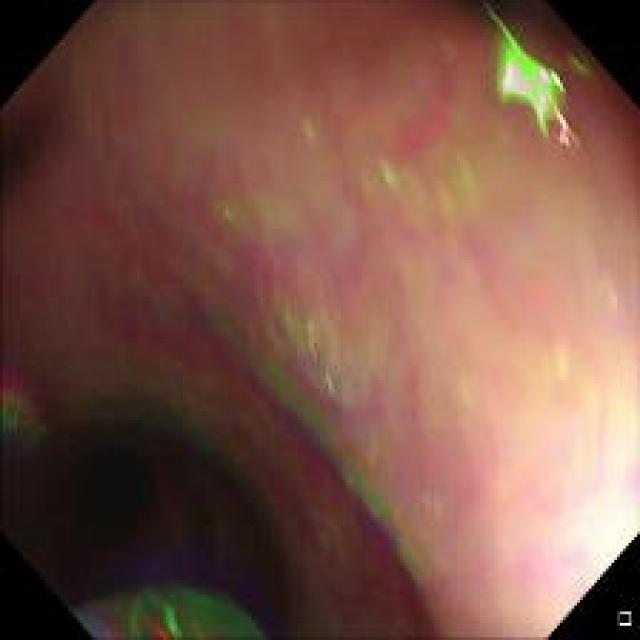color misalignment: (21, 111, 602, 626), (71, 572, 276, 634), (488, 30, 585, 154), (6, 368, 52, 474)
contrast: (31, 398, 320, 620)
